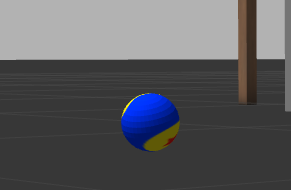toy story ball: (120, 92, 180, 152)
